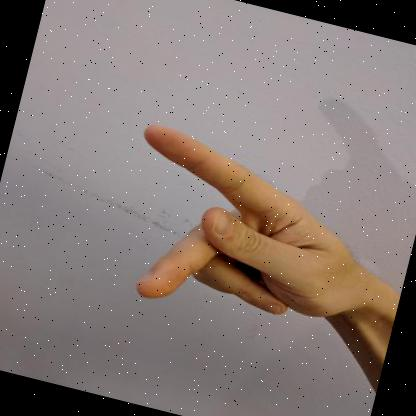P: (136, 124, 374, 353)
